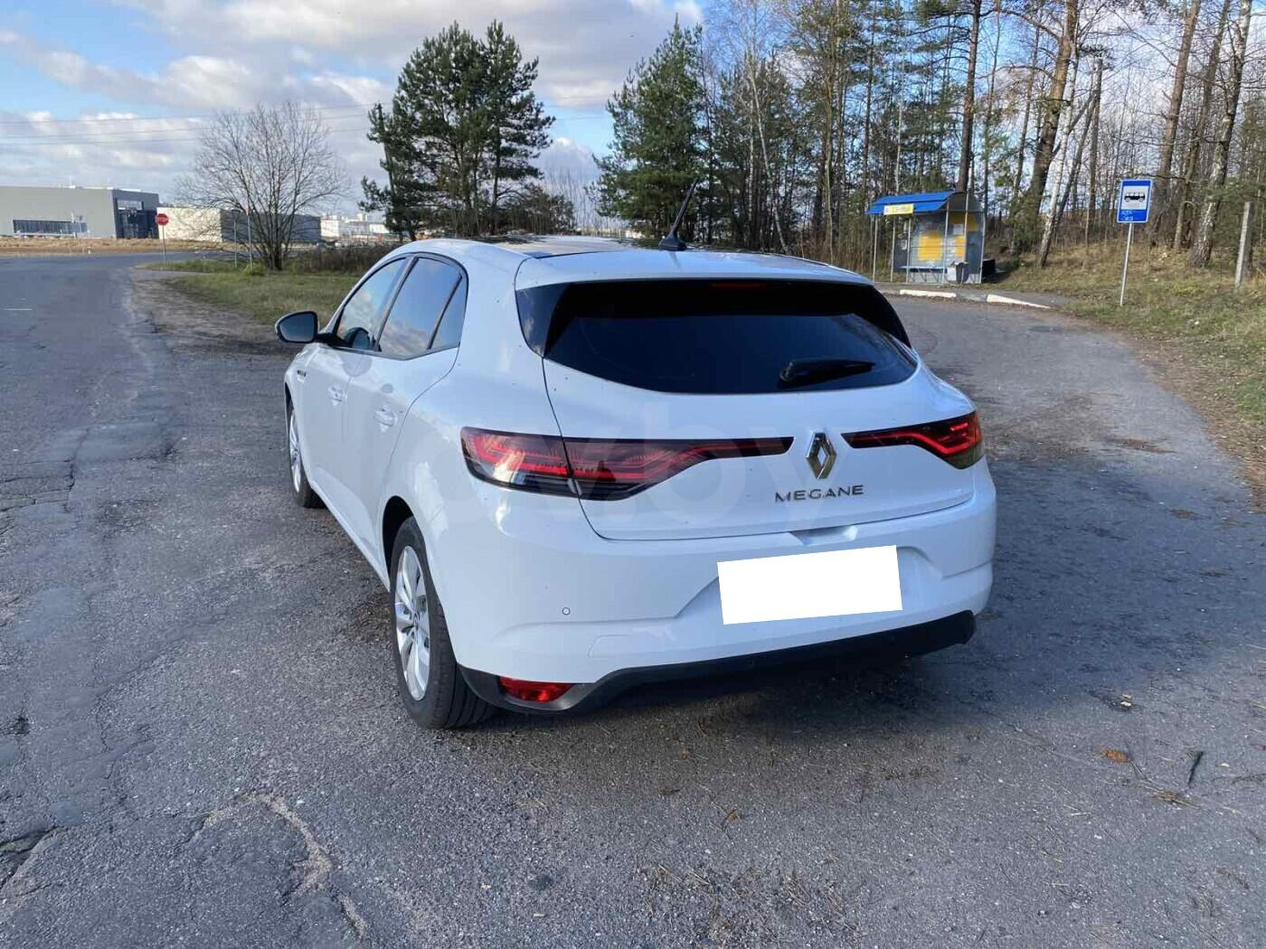Megane_2020: (274, 238, 1033, 726)
